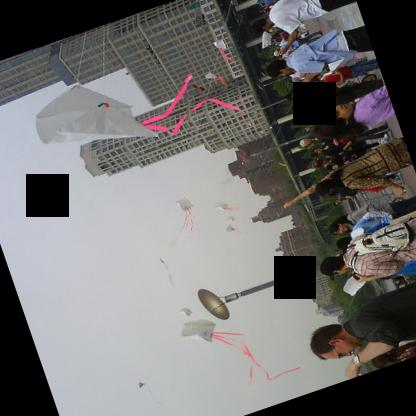backpack: (345, 219, 410, 271)
